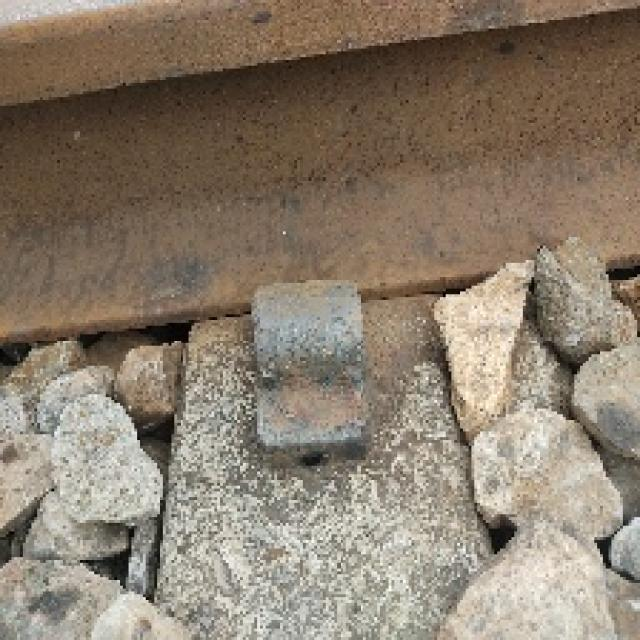Missing Fastener: (243, 260, 372, 462)
